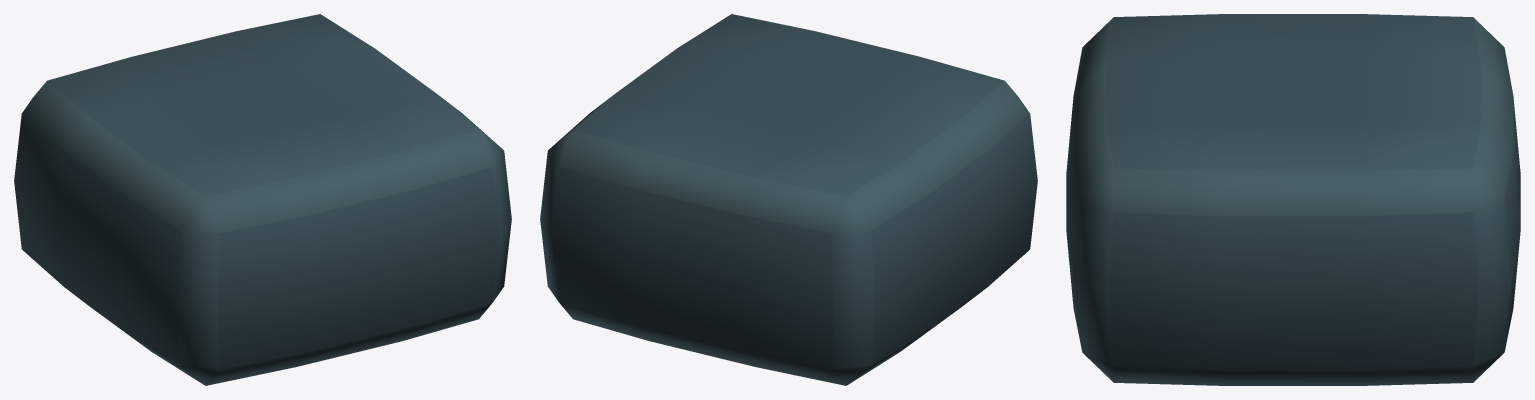
File: cube_03_shade_5_LOD_setup.fbx
3 views of the same model, side by side, from view 1: azimuth 30°, elevation 25°; view 2: azimuth 150°, elevation 25°; view 3: azimuth 270°, elevation 25° (orthographic). The views are drawn at different scales.
Visible parts, largest first — view 1: cube_03_shade_5_LOD0; view 2: cube_03_shade_5_LOD0; view 3: cube_03_shade_5_LOD0.
Boxes of the visible parts, x1,y1,x2,y2 form: cube_03_shade_5_LOD0: (14, 14, 511, 385); cube_03_shade_5_LOD0: (540, 14, 1037, 385); cube_03_shade_5_LOD0: (1066, 14, 1520, 385).
Size of what is drawn, in the model's own units: 112 by 58.2 by 112.
